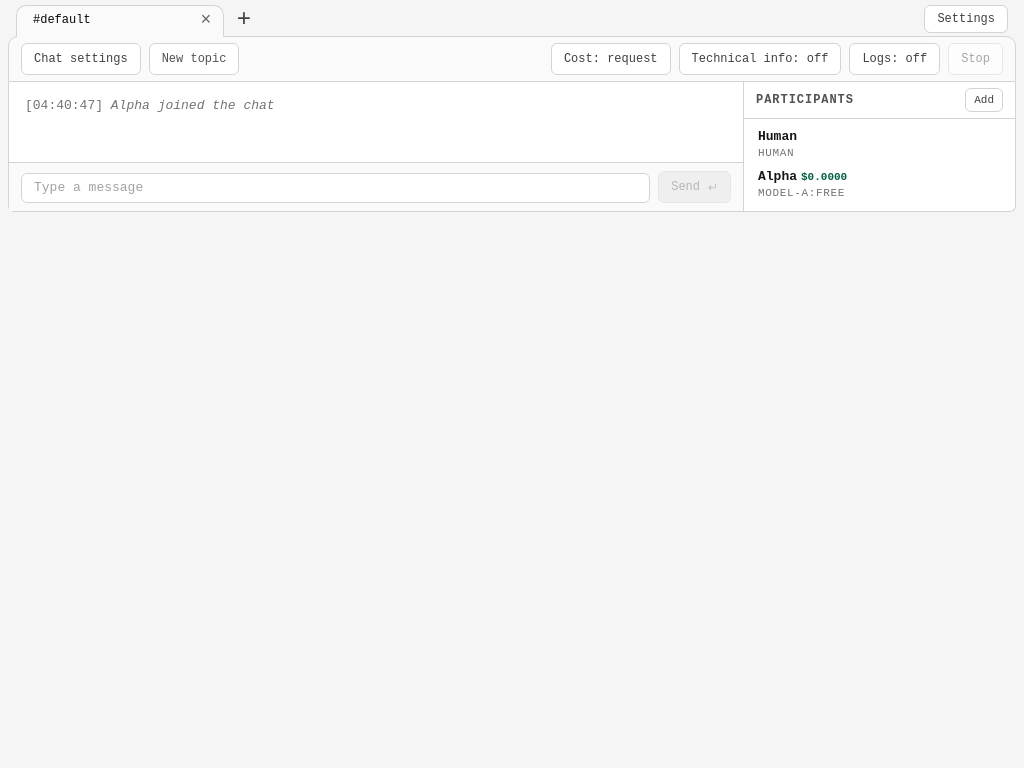
MultiAgentChat layout and workflow › opens chat settings from the toolbar
Click the button with class "toolbar-button" showing "Chat settings" at (81, 59), box [21,43,141,75]
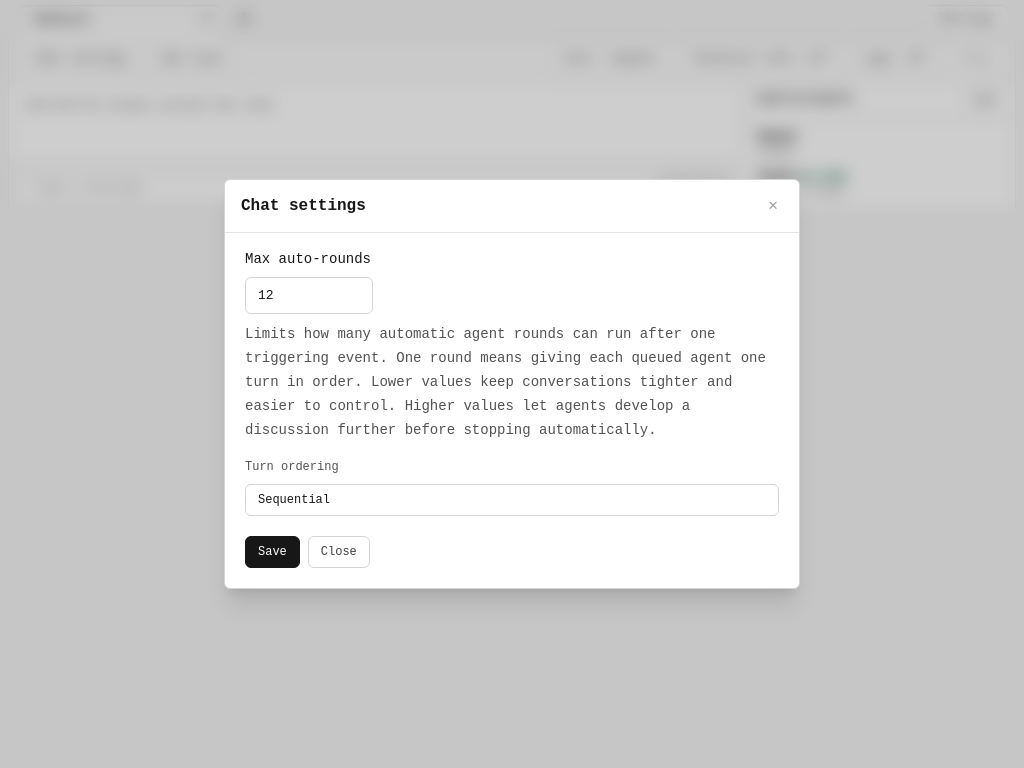
Check: the text "Max auto-rounds" is shown, box [245,251,371,267]
